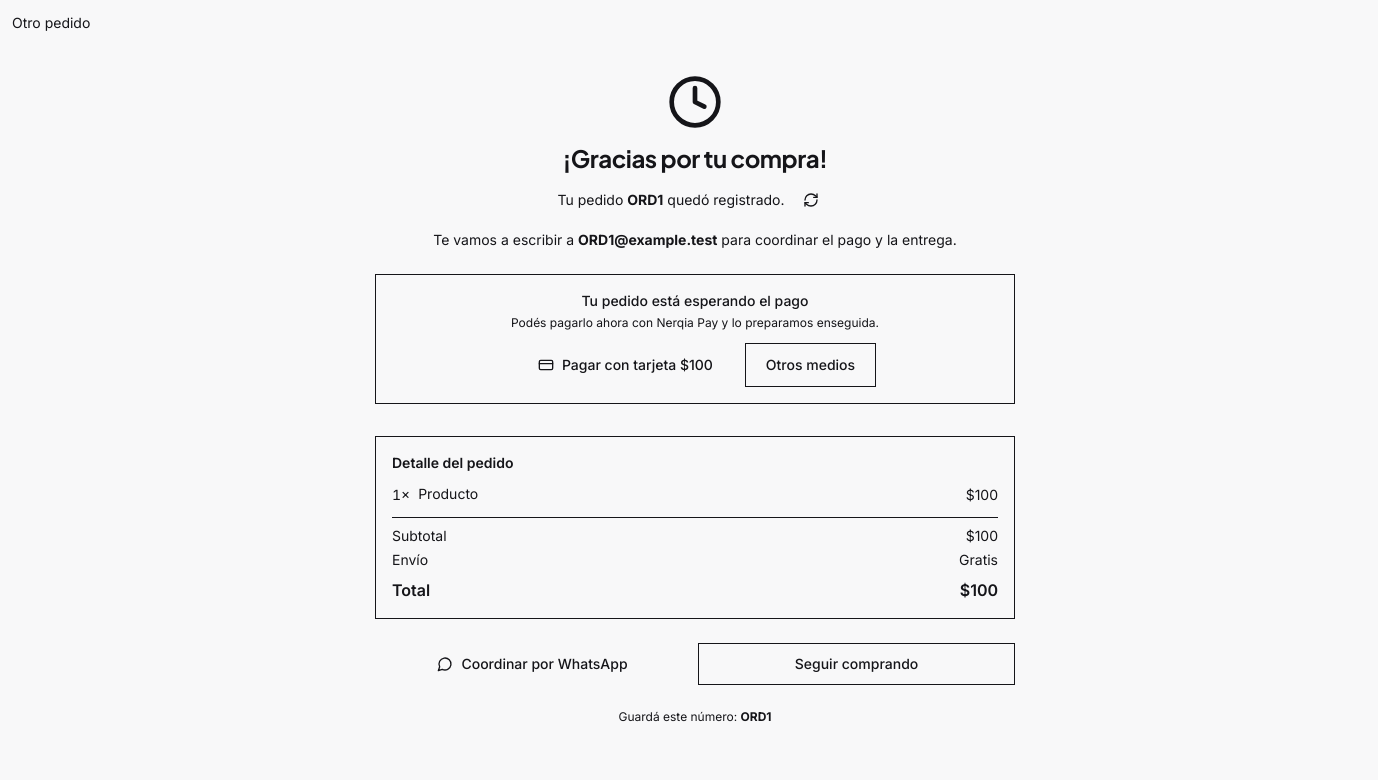
Test: recuperación de la página de pedido › cambiar de pedido borra la ficha anterior y descarta pagos tardíos
Click the button "Pagar con tarjeta $100" at (625, 365), box [514,343,737,387]
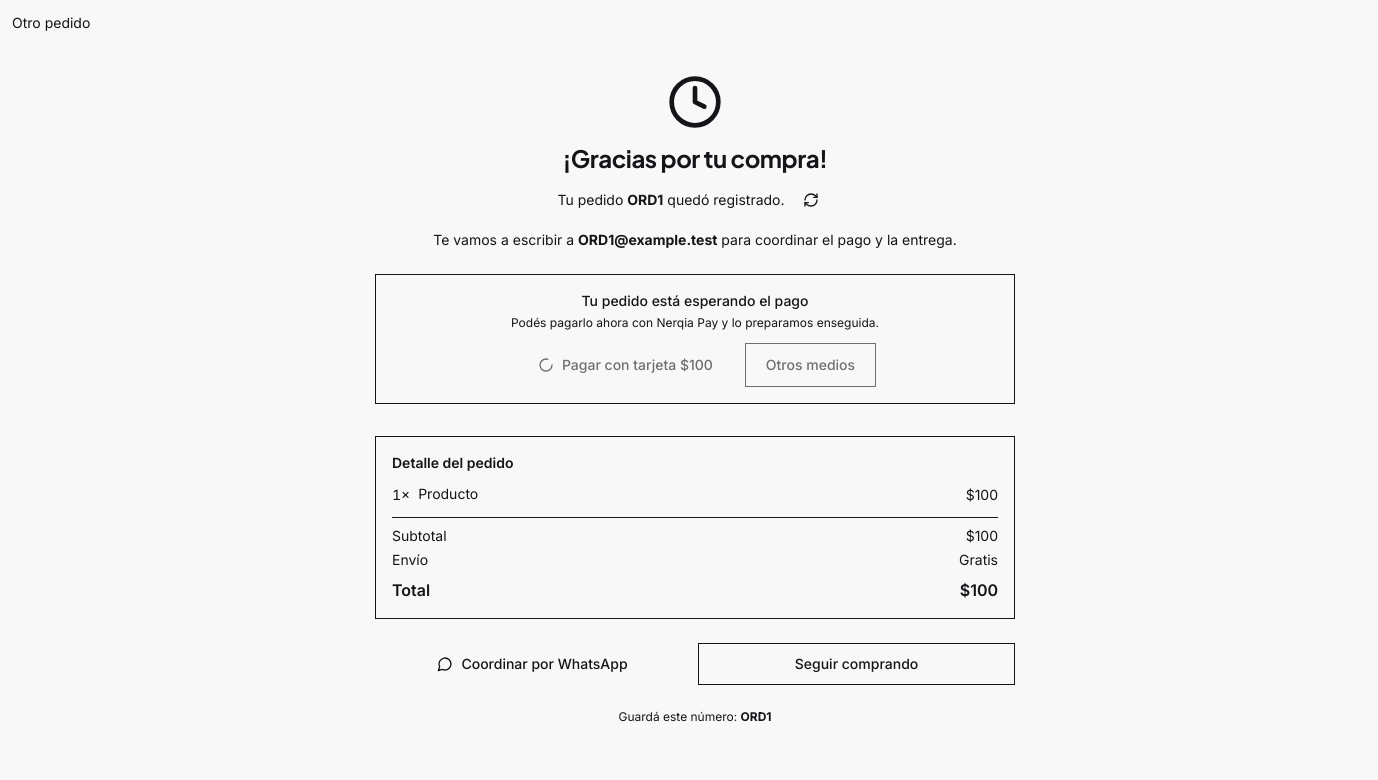
Click the link "Otro pedido" at (51, 22), box [12,14,90,31]
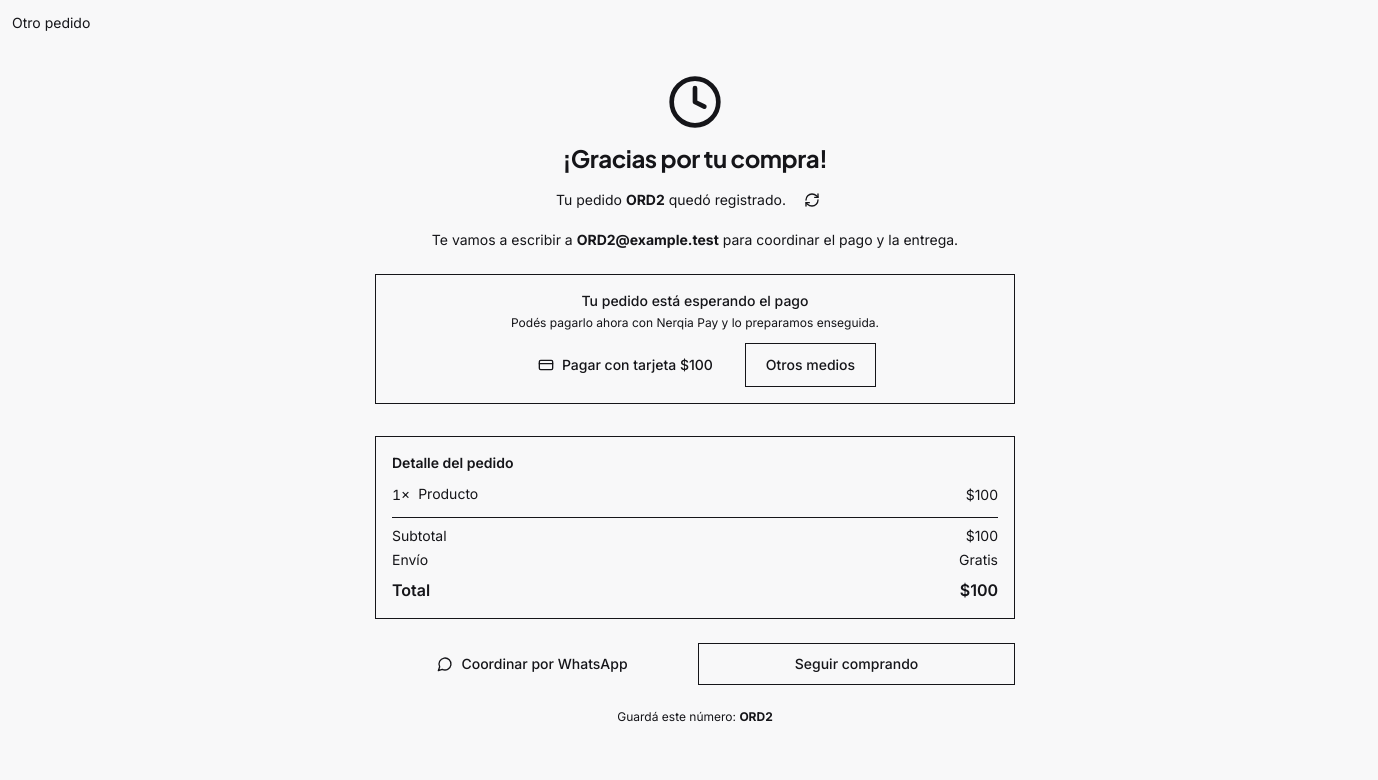
expect the text "ORD1@example.test" is gone: met
expect the text "ORD2@example.test" is shown: met, box [577,231,719,248]
